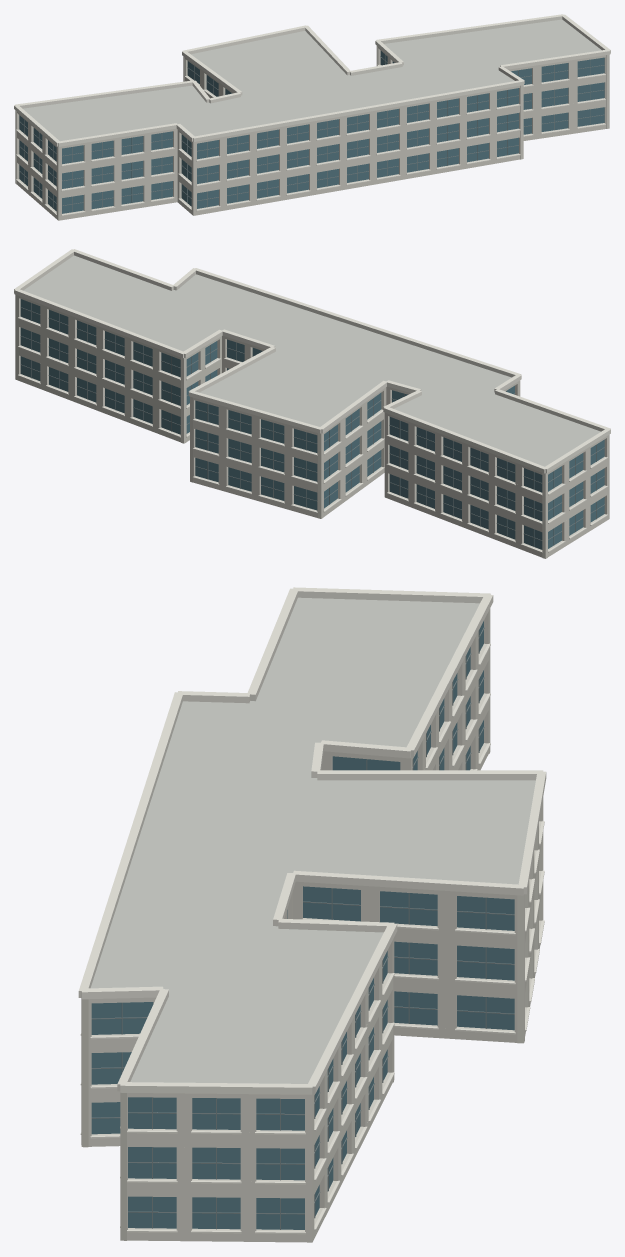
The picture shows the model from 3 angles, top to bottom: view 1: azimuth 30°, elevation 25°; view 2: azimuth 150°, elevation 25°; view 3: azimuth 270°, elevation 25°; orthographic projection. The views are drawn at different scales.
Visible parts, largest first — view 1: roof, wall, glass, trim, metal; view 2: roof, wall, glass, trim, metal; view 3: roof, wall, glass, trim, metal.
Part boxes in pixels (x1,y1,x2,y2): roof: (23, 19, 601, 141); wall: (15, 46, 609, 220); glass: (19, 51, 604, 213); trim: (14, 14, 610, 215); metal: (19, 54, 604, 212); roof: (23, 255, 600, 466); wall: (15, 294, 609, 558); glass: (20, 299, 604, 549); trim: (14, 249, 610, 552); metal: (20, 303, 604, 546); roof: (90, 597, 535, 1083); wall: (81, 608, 543, 1242); glass: (91, 621, 514, 1229); trim: (78, 587, 546, 1234); metal: (91, 627, 514, 1229).
Bounding box in the file's own units: 66.98 × 9.74 × 26.45.
